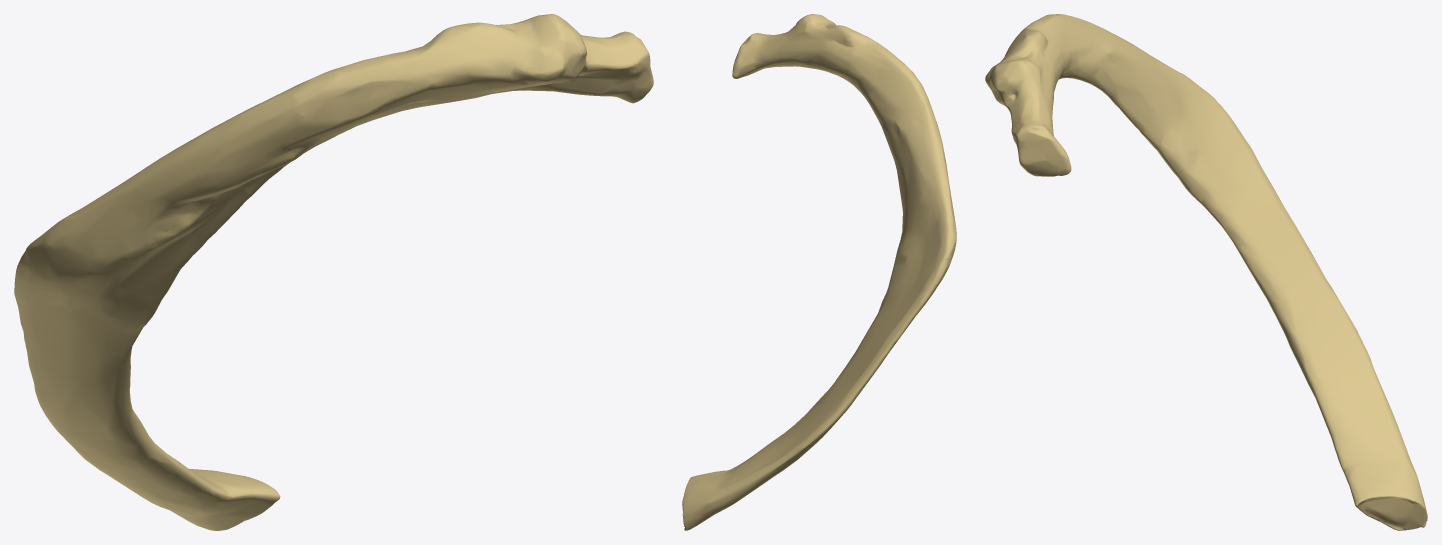
3 renders of one model, left to right at view 1: azimuth 30°, elevation 25°; view 2: azimuth 150°, elevation 25°; view 3: azimuth 270°, elevation 25°, orthographic. The views are drawn at different scales.
Visible parts, largest first — view 1: 右侧第二肋; view 2: 右侧第二肋; view 3: 右侧第二肋.
Boxes of the visible parts, x1,y1,x2,y2 form: 右侧第二肋: [14, 14, 653, 530]; 右侧第二肋: [682, 14, 956, 530]; 右侧第二肋: [985, 14, 1427, 530].
Size of the model in its own units: 0.121 by 0.165 by 0.1345.
